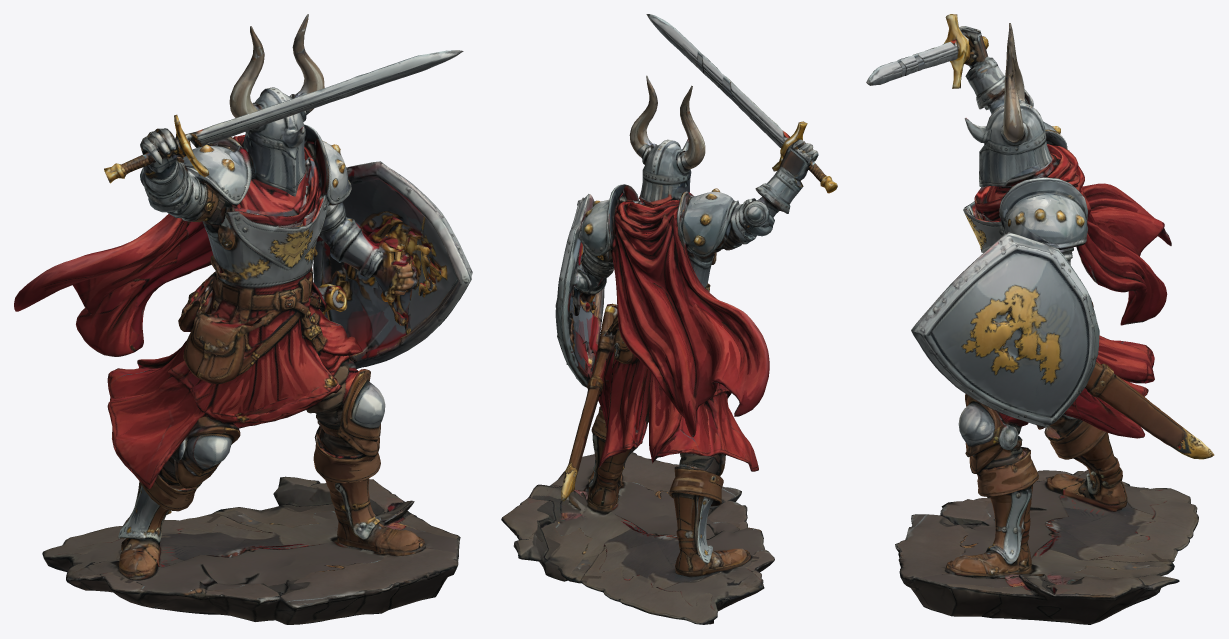
Rendered from Knight_BackView_SwordRaised_4K.glb.
3 renders of one model, left to right at view 1: azimuth 30°, elevation 25°; view 2: azimuth 150°, elevation 25°; view 3: azimuth 270°, elevation 25°, orthographic. The views are drawn at different scales.
Visible parts, largest first — view 1: texture_mapping; view 2: texture_mapping; view 3: texture_mapping.
Part boxes in pixels (<box>): texture_mapping: <box>14,14,472,624</box>; texture_mapping: <box>501,14,837,624</box>; texture_mapping: <box>866,14,1214,624</box>.
Bounding box in the file's own units: 0.6177 × 1 × 0.5942.
1 material, 1 textured.
